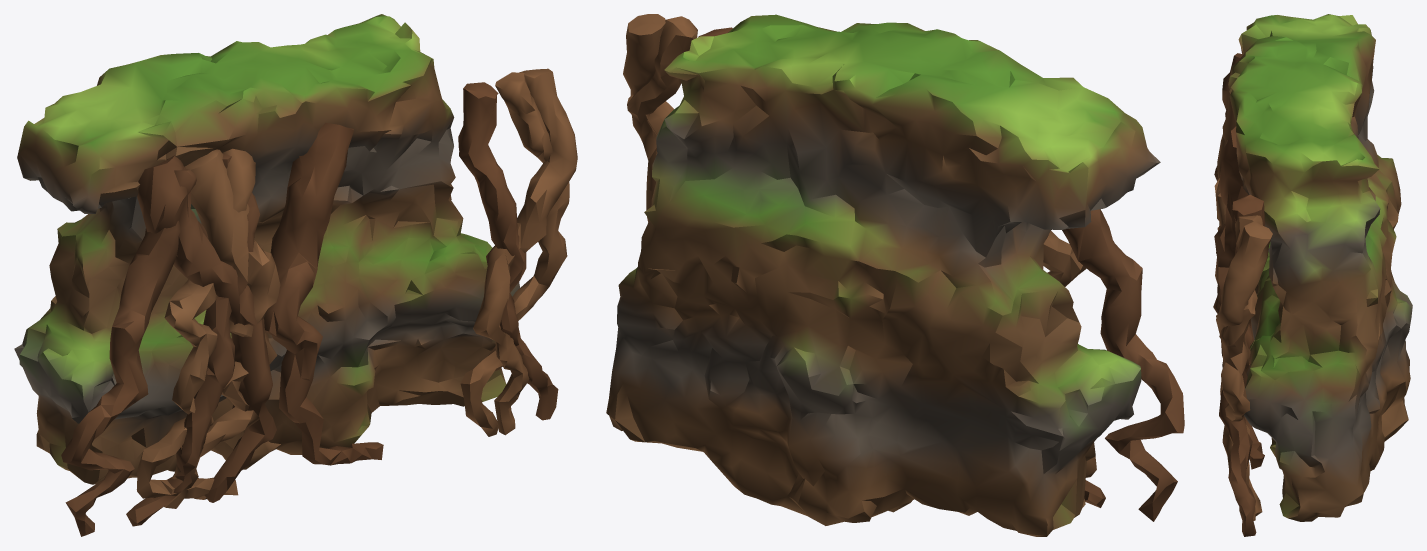
The model's file is glade_root_wall_a.glb.
3 renders of one model, left to right at view 1: azimuth 30°, elevation 25°; view 2: azimuth 150°, elevation 25°; view 3: azimuth 270°, elevation 25°, orthographic. The views are drawn at different scales.
Visible parts, largest first — view 1: glade_root_wall_a; view 2: glade_root_wall_a; view 3: glade_root_wall_a.
Part boxes in pixels (x1=…): glade_root_wall_a: x1=14, y1=14, x2=577, y2=536; glade_root_wall_a: x1=606, y1=14, x2=1184, y2=536; glade_root_wall_a: x1=1213, y1=14, x2=1412, y2=536.
Bounding box in the file's own units: 15.46 × 12 × 5.96.
